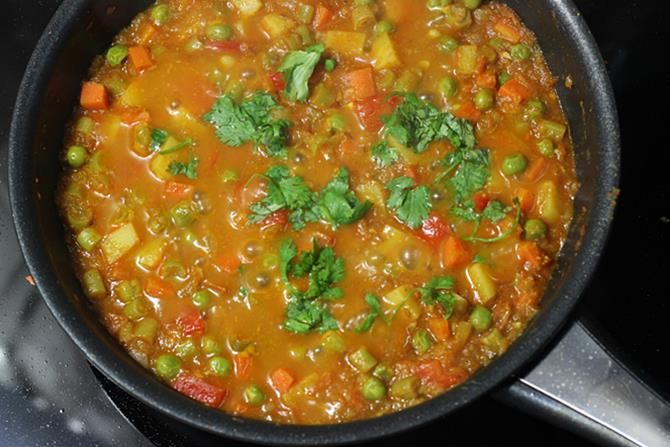curry: (58, 1, 583, 430)
